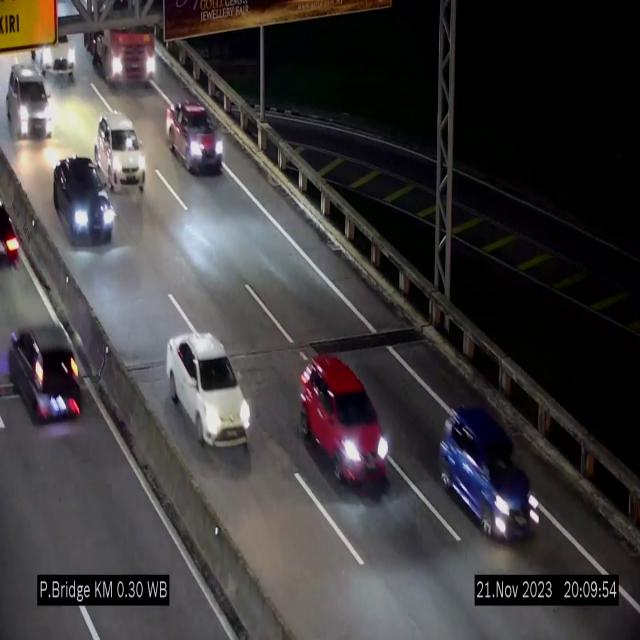Car: (439, 403, 537, 538), (3, 290, 93, 436), (298, 354, 389, 484), (166, 332, 251, 446), (50, 153, 118, 250), (93, 109, 153, 200), (166, 99, 222, 173), (5, 60, 55, 140), (28, 22, 78, 81), (0, 199, 24, 278)
Truck: (84, 0, 158, 94)
